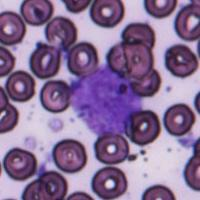B: (68, 65, 144, 136)
